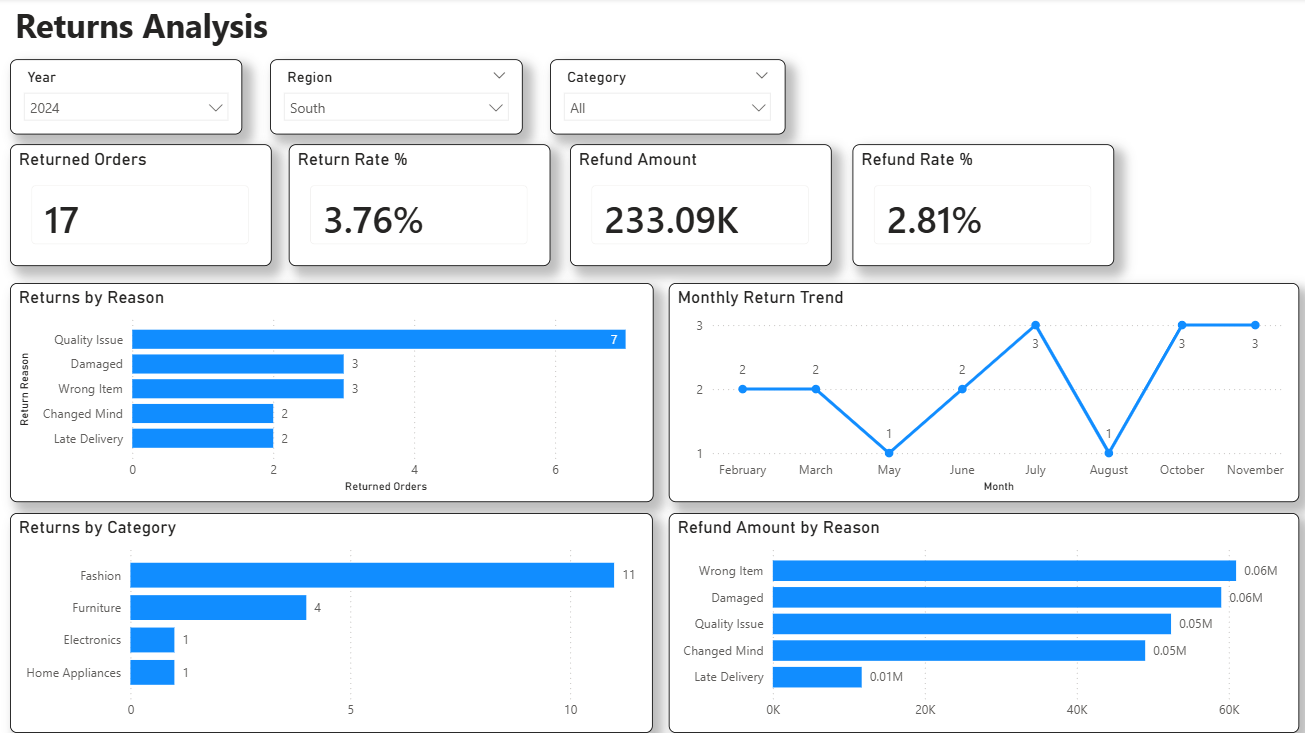

Layout of this report page (visuals, bound fields, positions):
{"tool":"powerbi","page":{"name":"Returns Analysis","canvas":[1280,720],"ordinal":3},"visuals":[{"type":"textbox","box":[9.9,0,511.5,58.3],"z":0},{"type":"slicer","fields":{"Values":["Dim_ReturnDate.Year"]},"box":[9.9,59.7,227.4,73.9],"z":1000},{"type":"slicer","fields":{"Values":["Dim_Customer.Region"]},"box":[264.3,59.7,247.2,73.9],"z":2000},{"type":"slicer","fields":{"Values":["Dim_Product.Category"]},"box":[538.5,59.7,230.2,73.9],"z":3000},{"type":"cardVisual","title":"Returned Orders","fields":{"Data":["_Measures.Returned Orders Filtered"]},"box":[9.9,143.5,255.8,119.4],"z":4000},{"type":"cardVisual","title":"Return Rate %","fields":{"Data":["_Measures.Return Rate Filtered %"]},"box":[282.8,143.5,255.8,119.4],"z":5000},{"type":"cardVisual","title":"Refund Amount","fields":{"Data":["_Measures.Refund Amount Filterd"]},"box":[557,143.5,255.8,119.4],"z":6000},{"type":"cardVisual","title":"Refund Rate %","fields":{"Data":["_Measures.Refund Rate Filtered %"]},"box":[834.1,143.5,255.8,119.4],"z":7000},{"type":"clusteredBarChart","title":"Returns by Reason","fields":{"Category":["Fact_Returns.ReturnReason"],"Y":["_Measures.Returned Orders Filtered"]},"box":[9.9,278.5,629.5,214.6],"z":8000},{"type":"lineChart","title":"Monthly Return Trend","fields":{"Category":["Dim_ReturnDate.MonthFull"],"Y":["_Measures.Returned Orders Trend"]},"box":[653.6,278.5,616.7,214.6],"z":9000},{"type":"clusteredBarChart","title":"Returns by Category","fields":{"Category":["Dim_Product.Category"],"Y":["_Measures.Returned Orders Filtered"]},"box":[10,504,629,215],"z":10000},{"type":"clusteredBarChart","title":"Refund Amount by Reason","fields":{"Category":["Fact_Returns.ReturnReason"],"Y":["_Measures.Refund Amount Filterd"]},"box":[654,504,617,215],"z":11000}]}

Visuals, with their boxes in screenshot pixels (x1, y1, x2, y2), scaled from the page's 1280x720 canvas onto the 1305x733 screenshot:
textbox: rect(10, 0, 532, 59)
slicer - Dim_ReturnDate.Year: rect(10, 61, 242, 136)
slicer - Dim_Customer.Region: rect(269, 61, 521, 136)
slicer - Dim_Product.Category: rect(549, 61, 784, 136)
"Returned Orders" cardVisual: rect(10, 146, 271, 268)
"Return Rate %" cardVisual: rect(288, 146, 549, 268)
"Refund Amount" cardVisual: rect(568, 146, 829, 268)
"Refund Rate %" cardVisual: rect(850, 146, 1111, 268)
"Returns by Reason" clusteredBarChart: rect(10, 284, 652, 502)
"Monthly Return Trend" lineChart: rect(666, 284, 1295, 502)
"Returns by Category" clusteredBarChart: rect(10, 513, 651, 732)
"Refund Amount by Reason" clusteredBarChart: rect(667, 513, 1296, 732)
